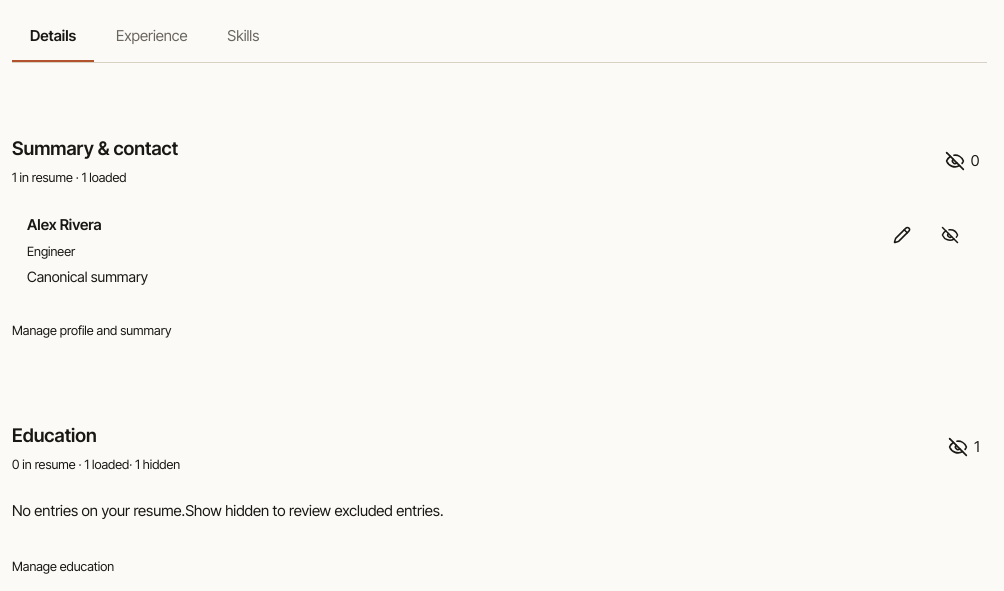
Test: Resume section tabs › shows accumulated skill evidence with quoted source and distinct usage dates
This screenshot has width=1004, height=591.
Click the tab with id "resume-tab-skills": (243,37) [209,12,277,62]
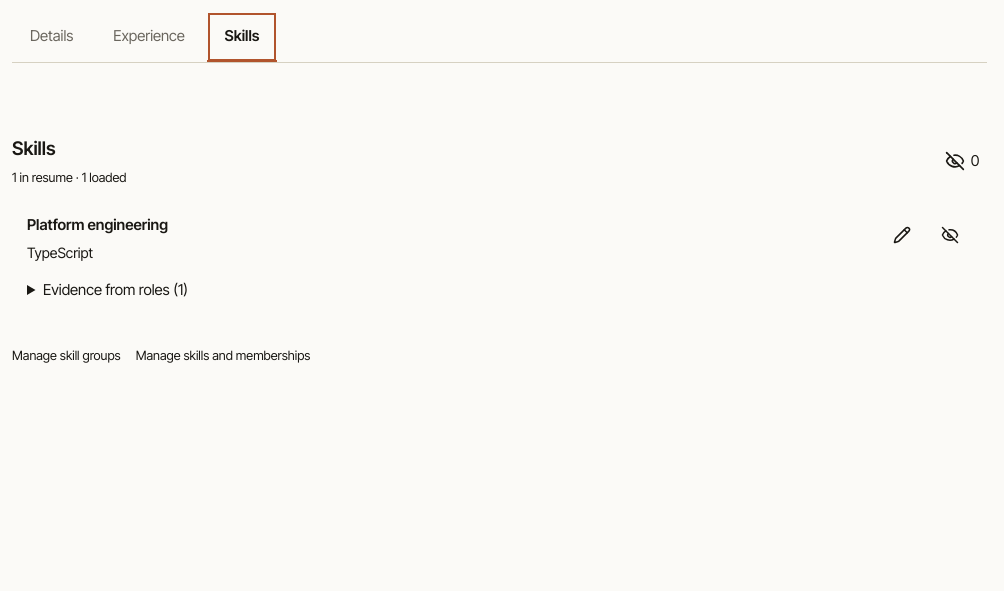
Now the element with class "skill-evidence" reads "Evidence from roles (1)", box [43,280,188,299]
